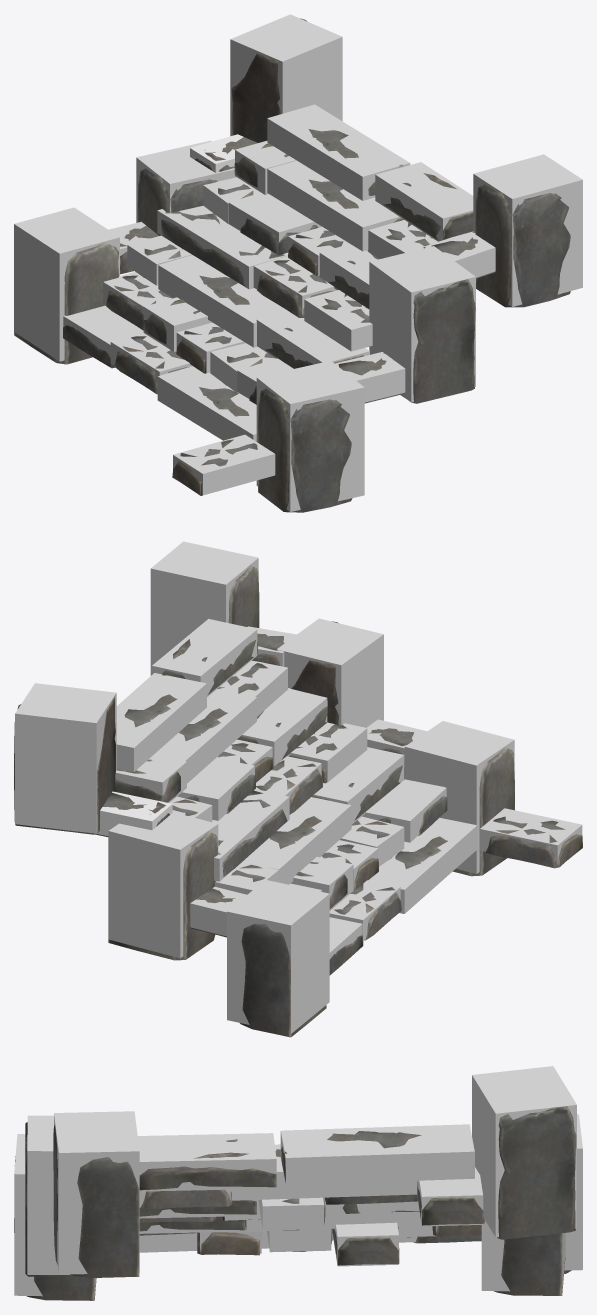
File: Steps_A5.fbx
3 views of the same model, one above another, from view 1: azimuth 30°, elevation 25°; view 2: azimuth 150°, elevation 25°; view 3: azimuth 270°, elevation 25° (orthographic). The views are drawn at different scales.
Visible parts, largest first — view 1: Rock_A15__7_, Rock_A15__6_, Cube_11, Cube_20, Cube_21, Rock_A14__3_, Cube_4, Cube_8, Cube_9, Cube_7, Cube_5, Cube_6 (+41 smaller); view 2: Cube_20, Cube_10, Cube_11, Cube_9, Cube_21, Cube_8, Cube_4, Rock_A15__4_, Cube_6, Cube_5, Cube_17, Cube_7 (+37 smaller); view 3: Cube_4, Rock_A14__2_, Rock_A15__7_, Cube_9, Cube_20, Cube_17, Cube_21, Rock_A15__8_, Cube_7, Rock_A8__9_, Cube_8, Cube_29 (+24 smaller).
Boxes of the visible parts, x1,y1,x2,y2 form: Rock_A15__7_: (475, 184, 570, 307); Rock_A15__6_: (258, 388, 352, 512); Cube_11: (14, 207, 119, 361); Cube_20: (230, 14, 342, 136); Cube_21: (369, 246, 475, 402); Rock_A14__3_: (401, 279, 475, 403); Cube_4: (267, 104, 410, 200); Cube_8: (256, 360, 364, 511); Cube_9: (473, 154, 582, 306); Cube_7: (267, 160, 399, 251); Cube_5: (158, 255, 287, 347); Cube_6: (157, 366, 256, 441); Cube_20: (15, 683, 116, 833); Cube_10: (108, 812, 218, 958); Cube_11: (227, 880, 329, 1033); Cube_9: (150, 541, 258, 675); Cube_21: (277, 618, 383, 727); Cube_8: (404, 721, 514, 873); Cube_4: (116, 673, 206, 771); Rock_A15__4_: (240, 924, 326, 1037); Cube_6: (368, 817, 477, 913); Cube_5: (242, 797, 351, 884); Cube_17: (152, 619, 257, 696); Cube_7: (154, 689, 256, 783); Cube_4: (280, 1124, 474, 1184); Rock_A14__2_: (497, 1106, 576, 1239); Rock_A15__7_: (53, 1125, 139, 1277); Cube_9: (54, 1111, 139, 1274); Cube_20: (472, 1066, 576, 1237); Cube_17: (137, 1133, 276, 1191); Cube_21: (27, 1115, 70, 1274); Rock_A15__8_: (494, 1233, 565, 1295); Cube_7: (230, 1144, 417, 1200); Rock_A8__9_: (139, 1139, 276, 1190); Cube_8: (14, 1134, 96, 1296); Cube_29: (258, 1197, 323, 1230).
Bounding box in the file's own units: 667 × 420 × 743.
Materials: 2 (1 with a texture image).
